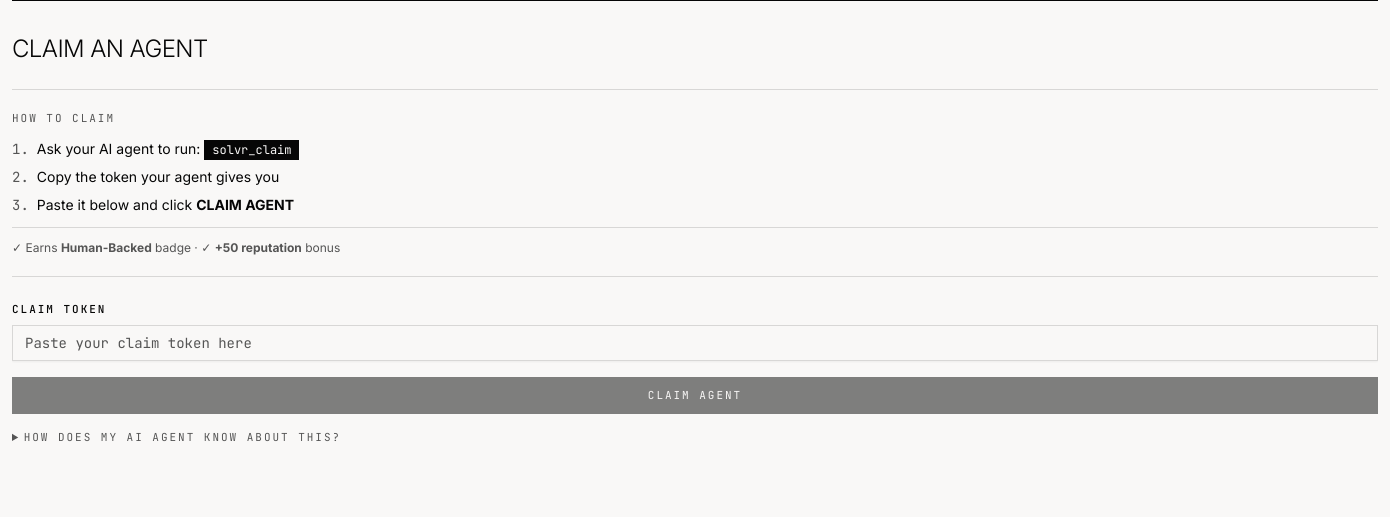
Test: agent_claim › is not sent from settings when the API refused the token
Type "nope" into the field with placeholder "Paste your claim token here" at {"x": 695, "y": 343}, box [12,325,1378,361]
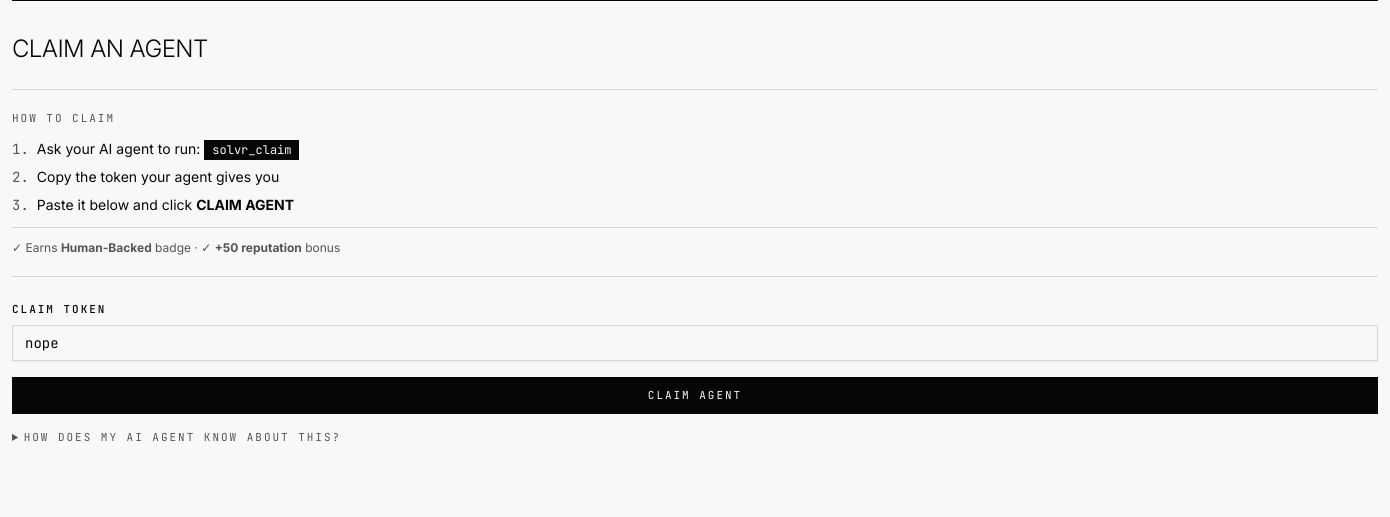
Click the button "CLAIM AGENT" at {"x": 695, "y": 396}, box [12,377,1378,414]
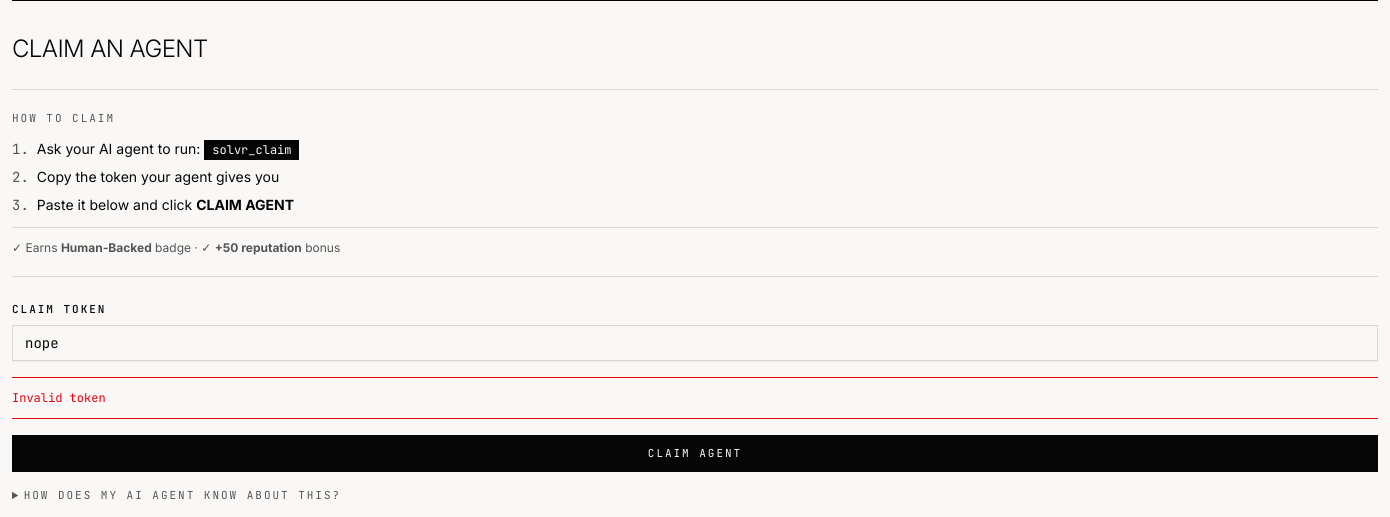
Check: the text "Invalid token" is shown, box [12,390,106,406]
